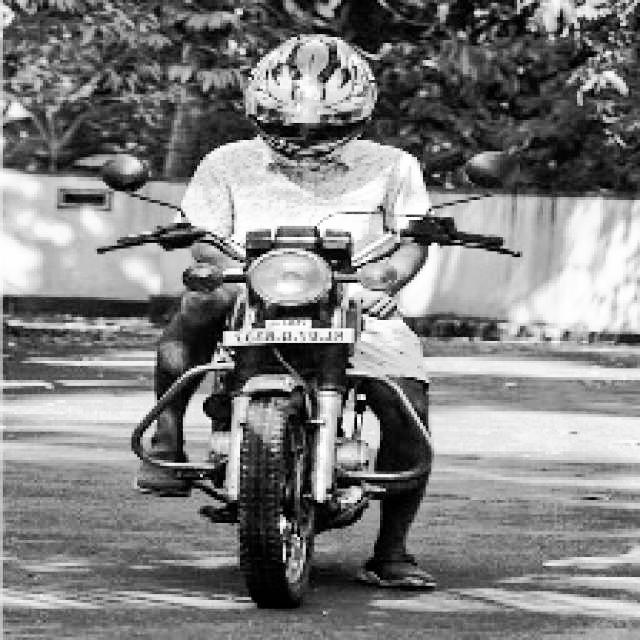Bike: (199, 217, 423, 584)
